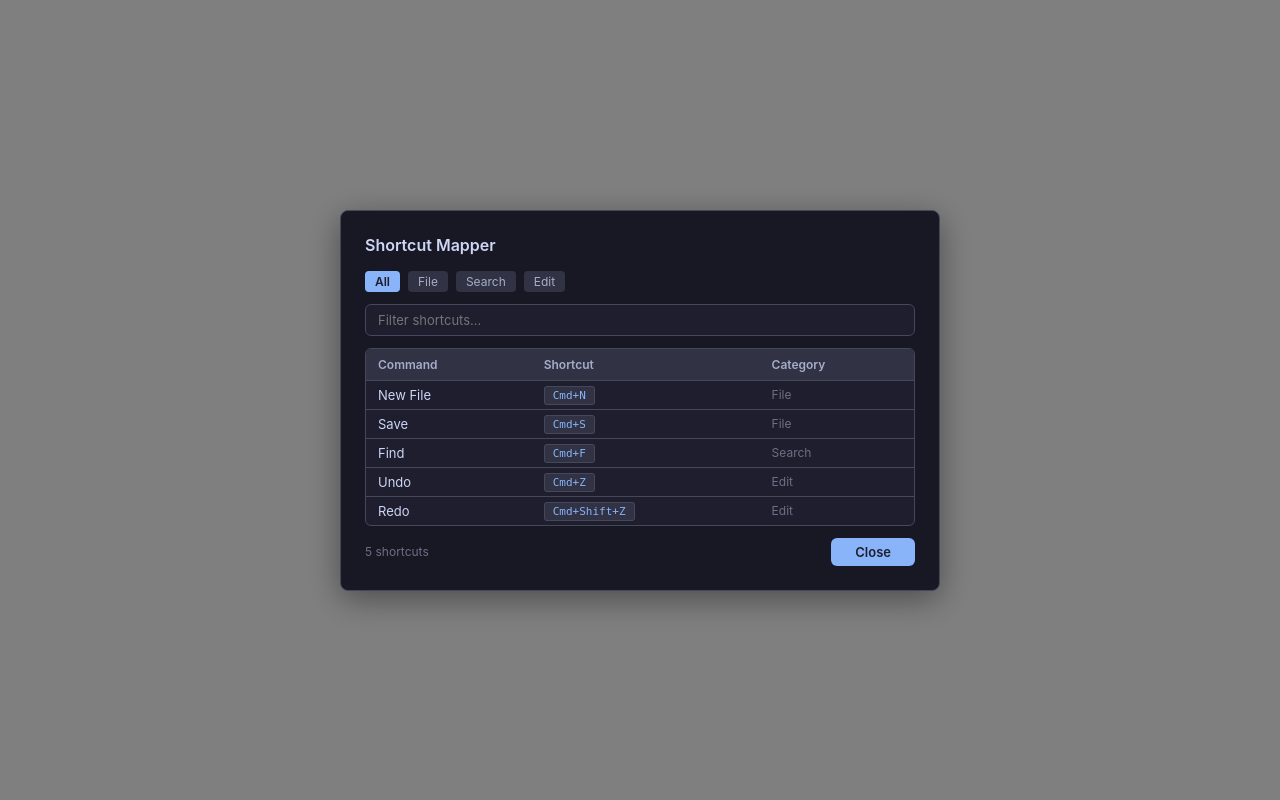
Test: ShortcutMapperDialog › filters by "Search" category tab
Note: First Search is the tab (span), second is in table
What coordinates should you click on to do the following:
click the text "Search"
I would click on:
 (486, 281)
Its box is [456, 270, 516, 292].
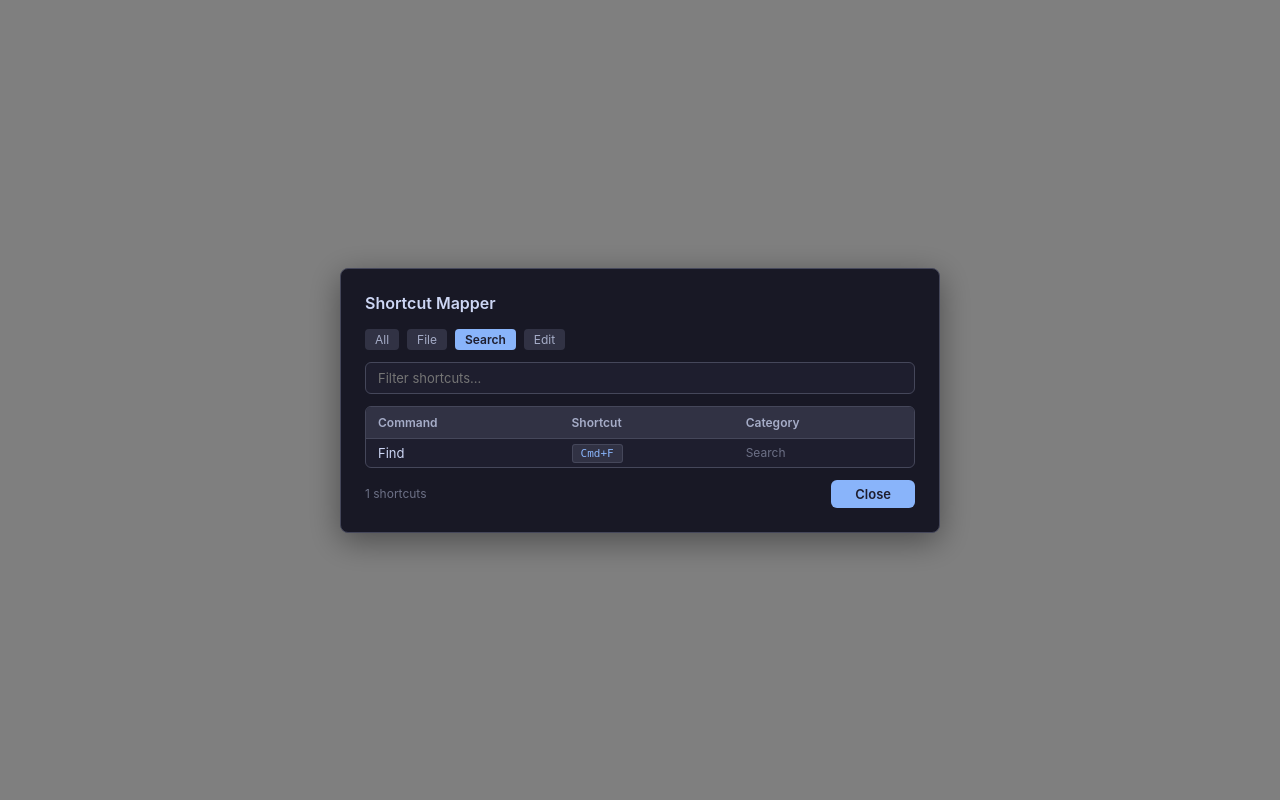
Check: the text "Find" is shown, box [366, 438, 560, 466]
Check: the text "Save" is gone
Check: the text "Undo" is gone
